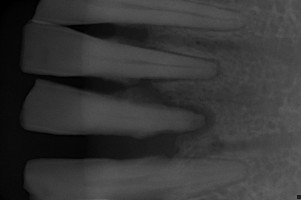Dental Caries: (159, 102, 216, 140)
